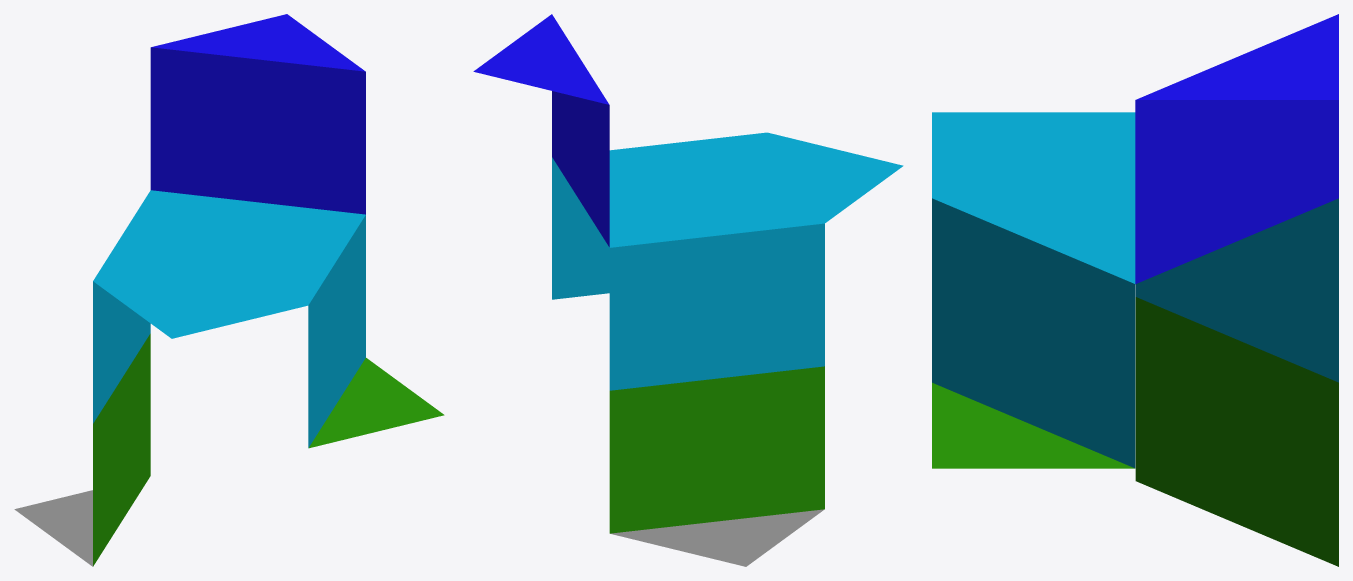
3 views of the same model, side by side, from view 1: azimuth 30°, elevation 25°; view 2: azimuth 150°, elevation 25°; view 3: azimuth 270°, elevation 25° (orthographic). The views are drawn at different scales.
Parts seen in each view (by area): view 1: T_15d_0_0; view 2: T_15d_0_0; view 3: T_15d_0_0.
Part boxes in pixels (x1,y1,x2,y2): T_15d_0_0: [14, 14, 444, 566]; T_15d_0_0: [473, 14, 903, 566]; T_15d_0_0: [932, 14, 1338, 566].
Bounding box in the file's own units: 99.79 × 150 × 99.81.
